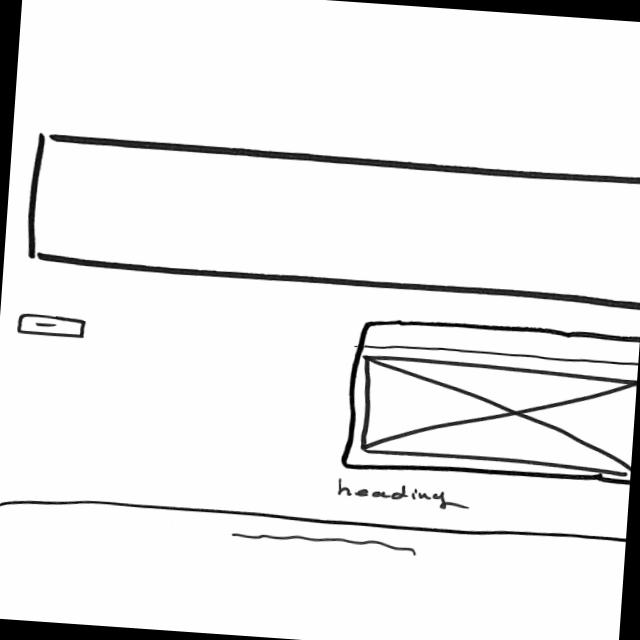container: (23, 130, 640, 311), (344, 316, 640, 489)
icon-button: (17, 313, 89, 342)
image: (358, 354, 639, 476)
label: (334, 477, 469, 512)
text: (230, 528, 420, 557)
